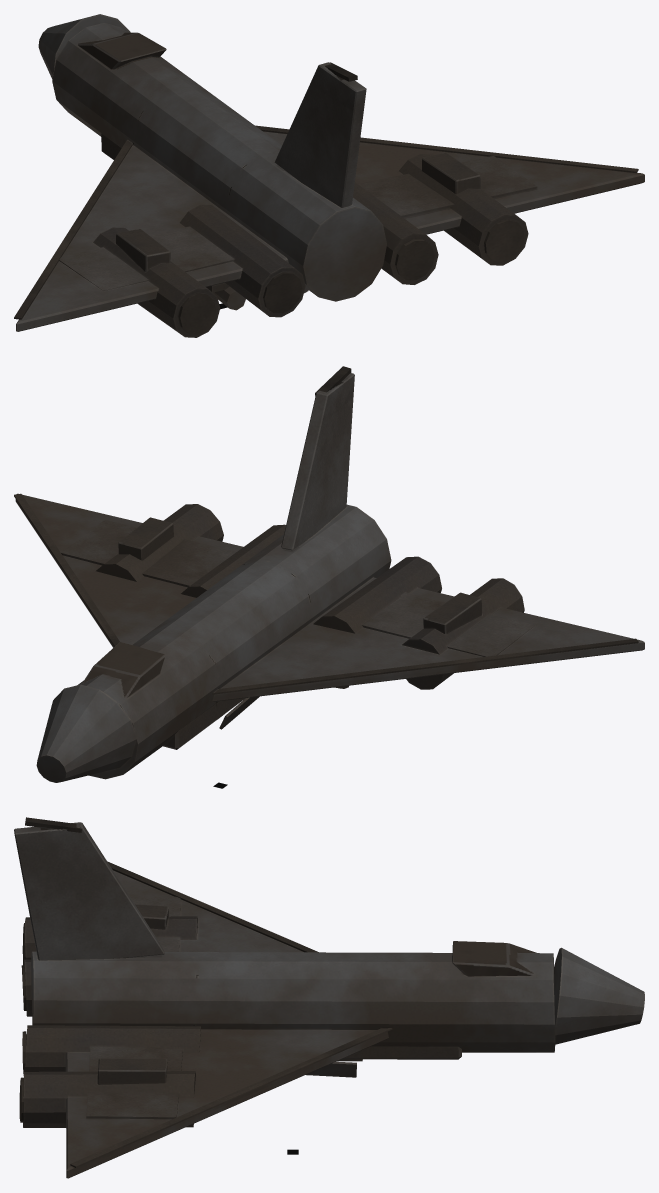
File: chs_behemoth_wreck.fbx
3 renders of one model, top to bottom at view 1: azimuth 30°, elevation 25°; view 2: azimuth 150°, elevation 25°; view 3: azimuth 270°, elevation 25°, orthographic. The views are drawn at different scales.
Parts seen in each view (by area): view 1: base_bar, pylon_bar; view 2: base_bar; view 3: base_bar, bay_bar.
Boxes of the visible parts, box(x1,y1,x2,y2) form: base_bar: box(14, 14, 644, 337); pylon_bar: box(206, 282, 308, 310); base_bar: box(14, 366, 644, 782); base_bar: box(14, 817, 644, 1178); bay_bar: box(306, 1059, 362, 1077).
Size of the model in its own units: 1322 by 650 by 1113.
Materials: 2 (2 with a texture image).
